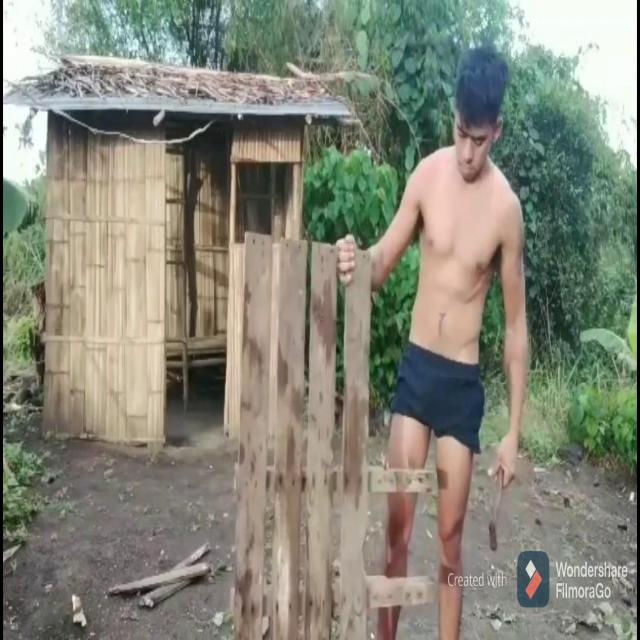hammer: (487, 459, 505, 553)
